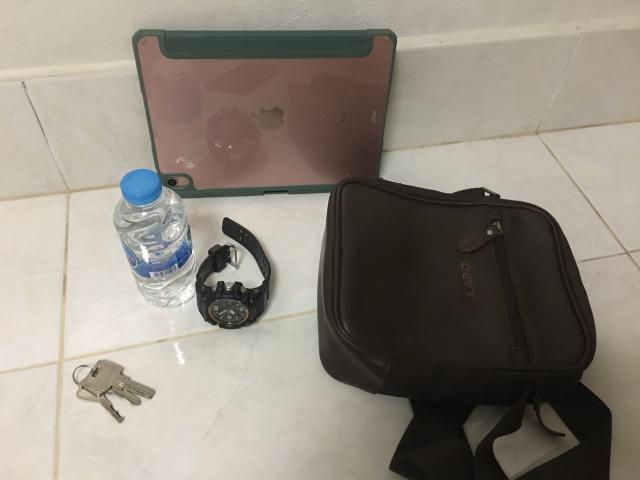Keys: (72, 360, 155, 422)
Watch: (195, 218, 271, 329)
bottle: (114, 169, 196, 308)
